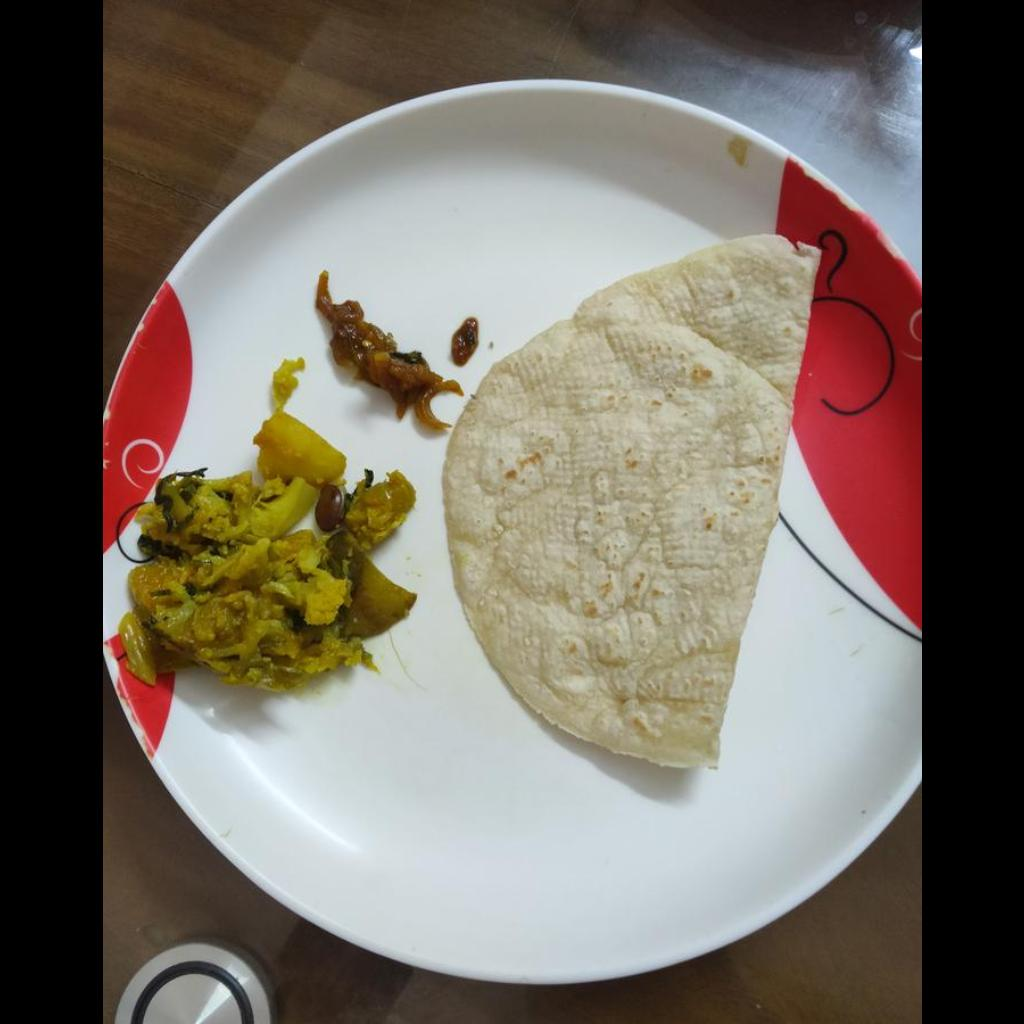cauliflower: (116, 420, 424, 684)
ruti: (438, 230, 818, 769)
